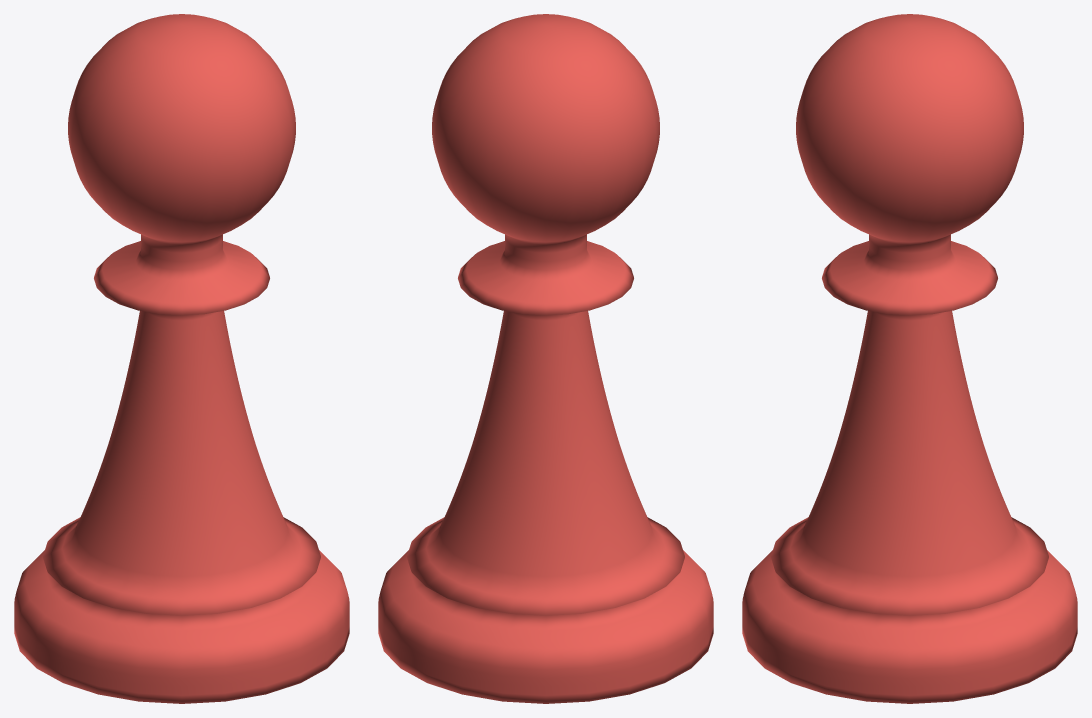
Rendered from StartMarker_Pawn.fbx.
The picture shows the model from 3 angles, left to right: view 1: azimuth 30°, elevation 25°; view 2: azimuth 150°, elevation 25°; view 3: azimuth 270°, elevation 25°; orthographic projection.
Visible parts, largest first — view 1: StartMarker_Pawn; view 2: StartMarker_Pawn; view 3: StartMarker_Pawn.
Part boxes in pixels (x1,y1,x2,y2): StartMarker_Pawn: (14,14,349,703); StartMarker_Pawn: (378,14,713,703); StartMarker_Pawn: (742,14,1077,703).
Size of the model in its own units: 100 by 200 by 100.
